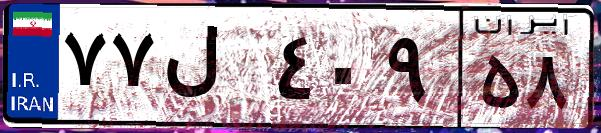0: (330, 28, 385, 110)
4: (270, 28, 330, 110)
5: (475, 38, 525, 113)
7: (57, 26, 110, 100), (110, 28, 158, 98)
8: (525, 38, 570, 115)
9: (385, 28, 445, 110)
ل: (158, 20, 270, 120)
